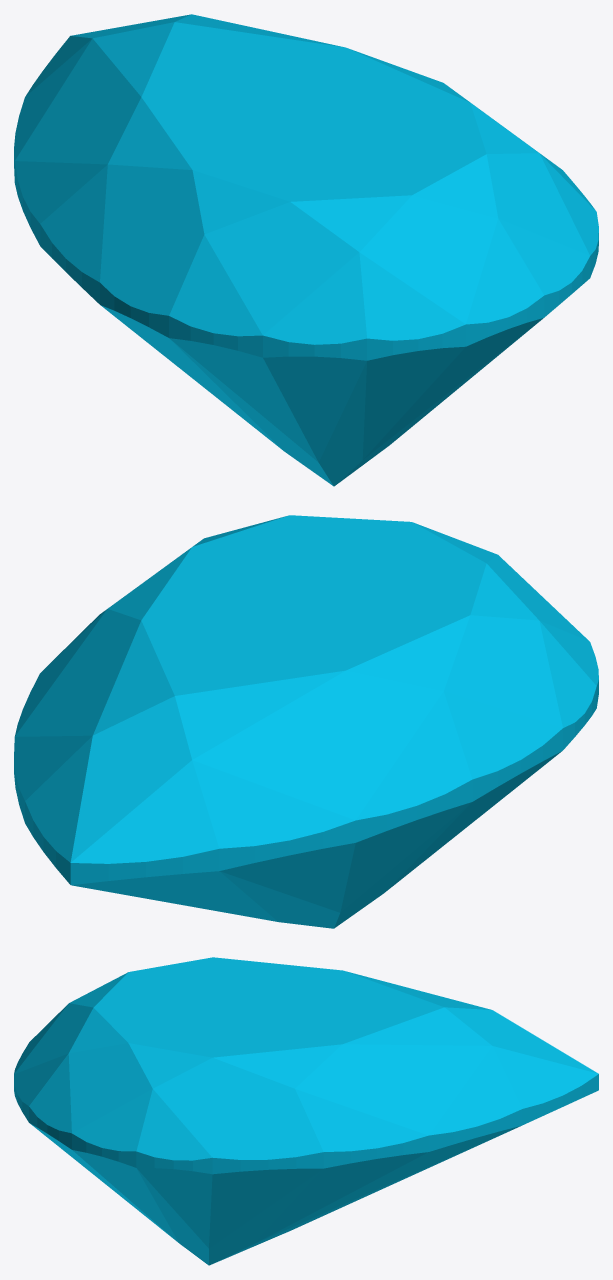
Rendered from Head_Hidden Halo_Pear_1.0ct_Diamond.glb.
The picture shows the model from 3 angles, top to bottom: view 1: azimuth 30°, elevation 25°; view 2: azimuth 150°, elevation 25°; view 3: azimuth 270°, elevation 25°; orthographic projection. The views are drawn at different scales.
Size of the model in its own units: 0.00565 by 0.00407 by 0.00836.
